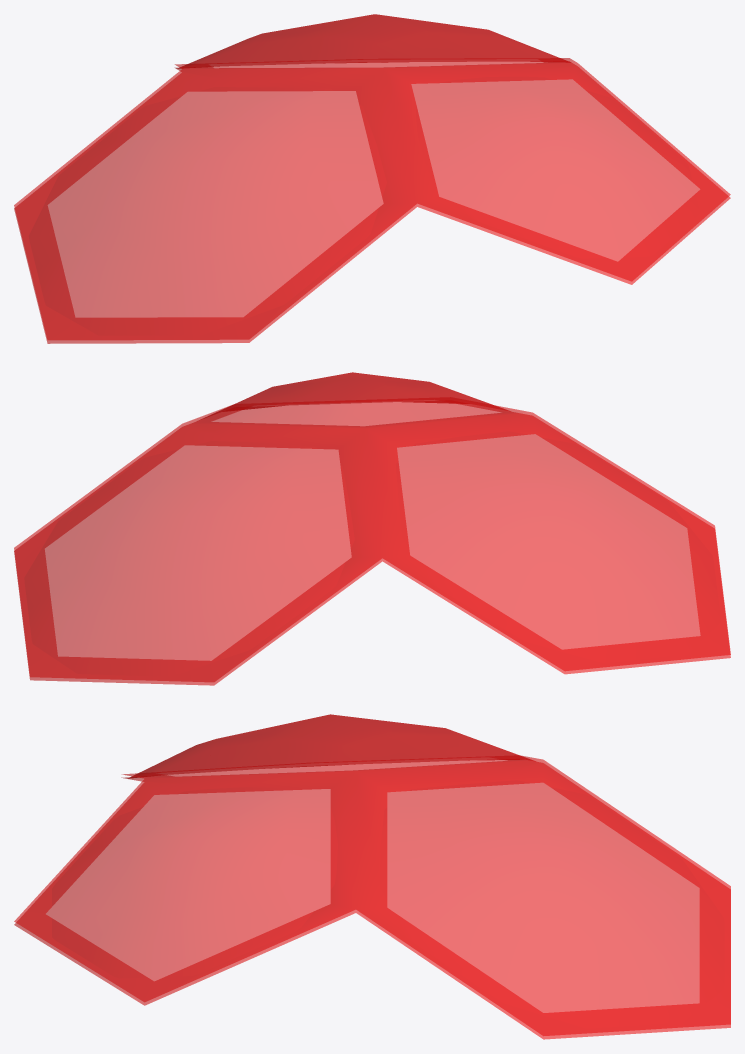
The model's file is hexagon.fbx.
3 renders of one model, top to bottom at view 1: azimuth 30°, elevation 25°; view 2: azimuth 150°, elevation 25°; view 3: azimuth 270°, elevation 25°, orthographic. The views are drawn at different scales.
Parts seen in each view (by area): view 1: football4; view 2: football4; view 3: football4.
Boxes of the visible parts, x1,y1,x2,y2 form: football4: [14, 14, 730, 343]; football4: [14, 372, 730, 685]; football4: [14, 714, 730, 1039].
Size of the model in its own units: 0.00122 by 0.000311 by 0.00117.
